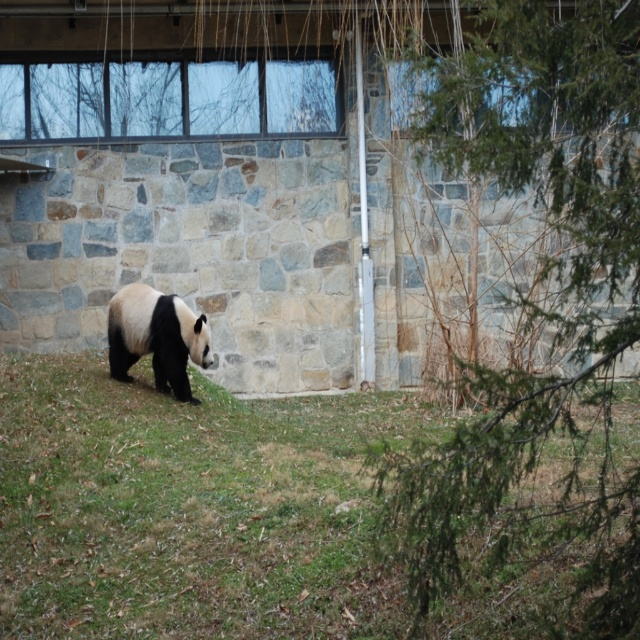Panda: (109, 282, 215, 408)
